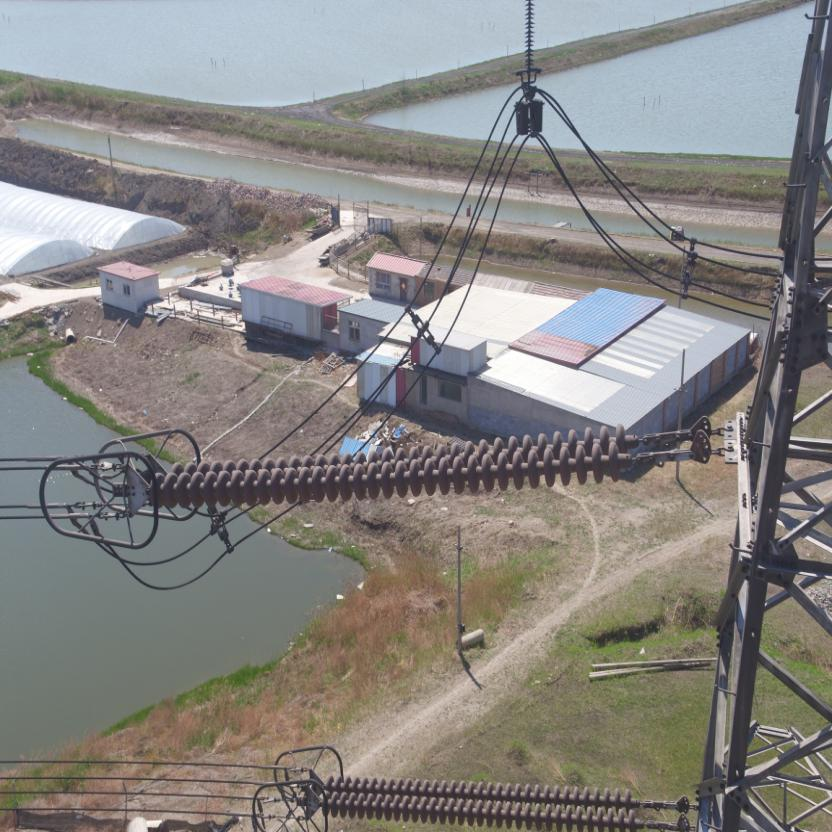insulator: (136, 418, 674, 509), (313, 770, 661, 830)
